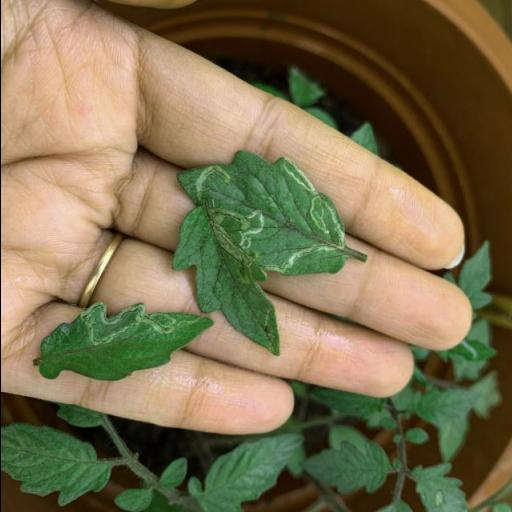Healthy: (186, 429, 304, 512), (0, 420, 112, 506)
Leaf Miner: (174, 150, 350, 276), (36, 302, 210, 384)
